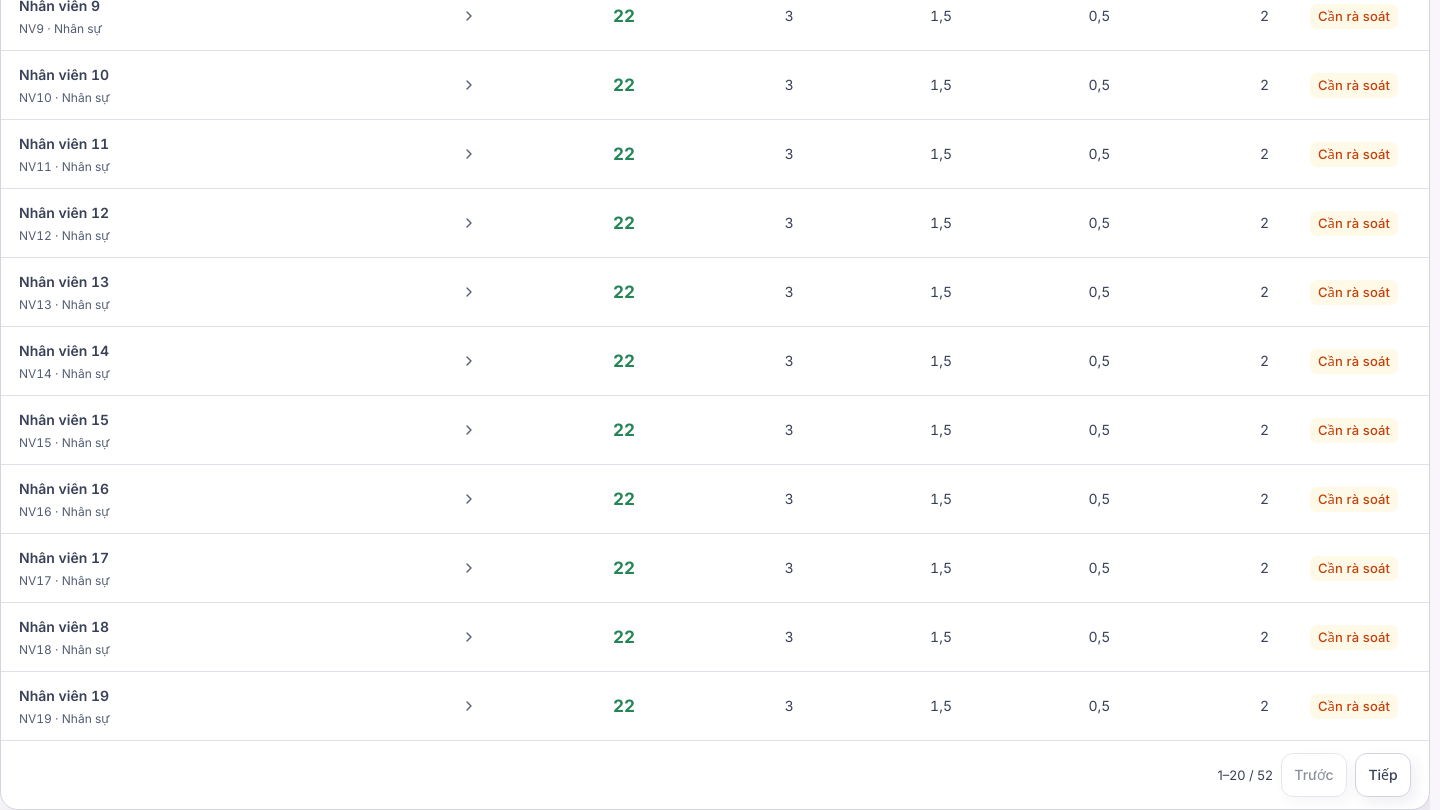
Test case: employee attendance summary list › paginates long rosters and resets the page after searching
(page scrolled)
Click the button "Tiếp" at [1383, 775], box x1=1355 y1=753 x2=1411 y2=797
(page scrolled)
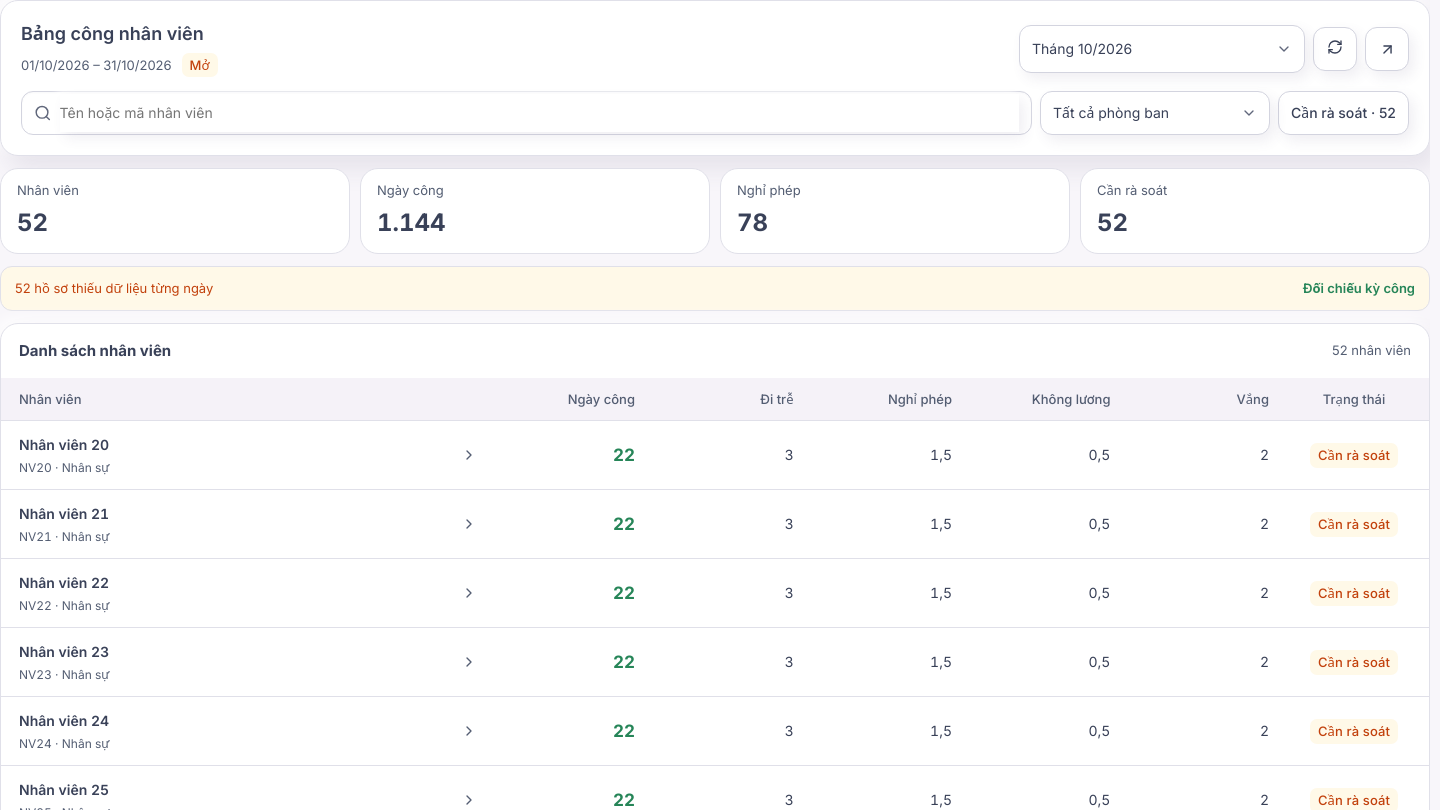
Expected: the link "Nhân viên 20 NV20 · Nhân sự" is shown, x1=19 y1=433 x2=476 y2=477
Type "Nhân viên 51" into the search field named "Tìm nhân viên" at [539, 113], box x1=60 y1=94 x2=1019 y2=132
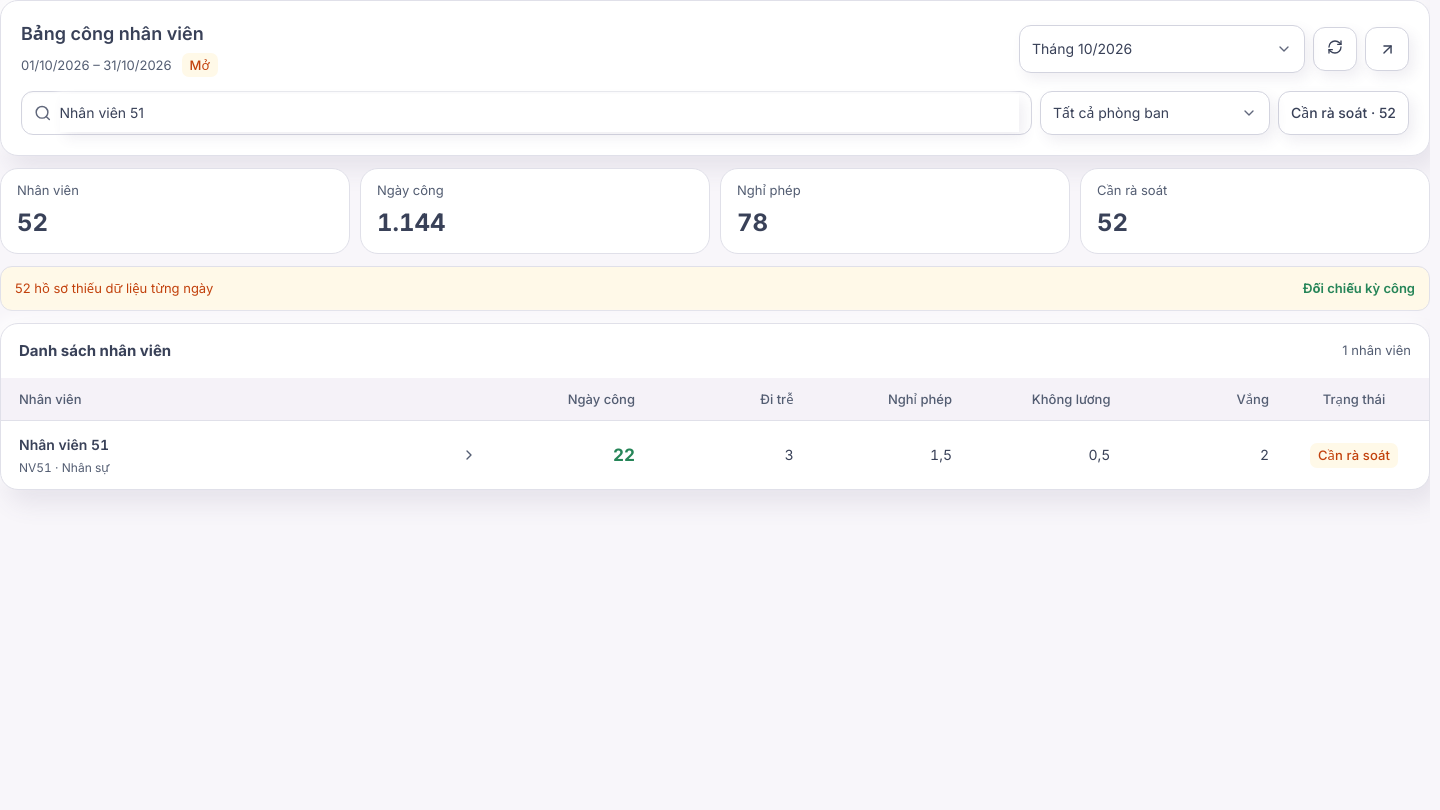
Expected: the button "Tiếp" is not shown
Expected: the link "Nhân viên 51 NV51 · Nhân sự" is shown, x1=19 y1=433 x2=476 y2=477
